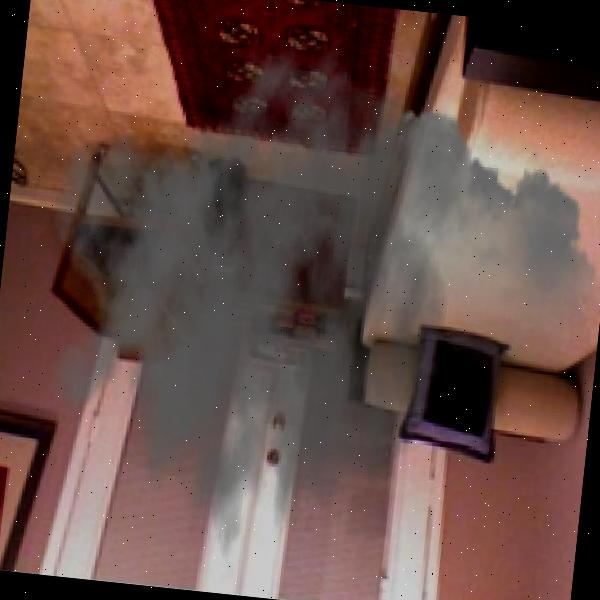smoke: (14, 0, 600, 600)
